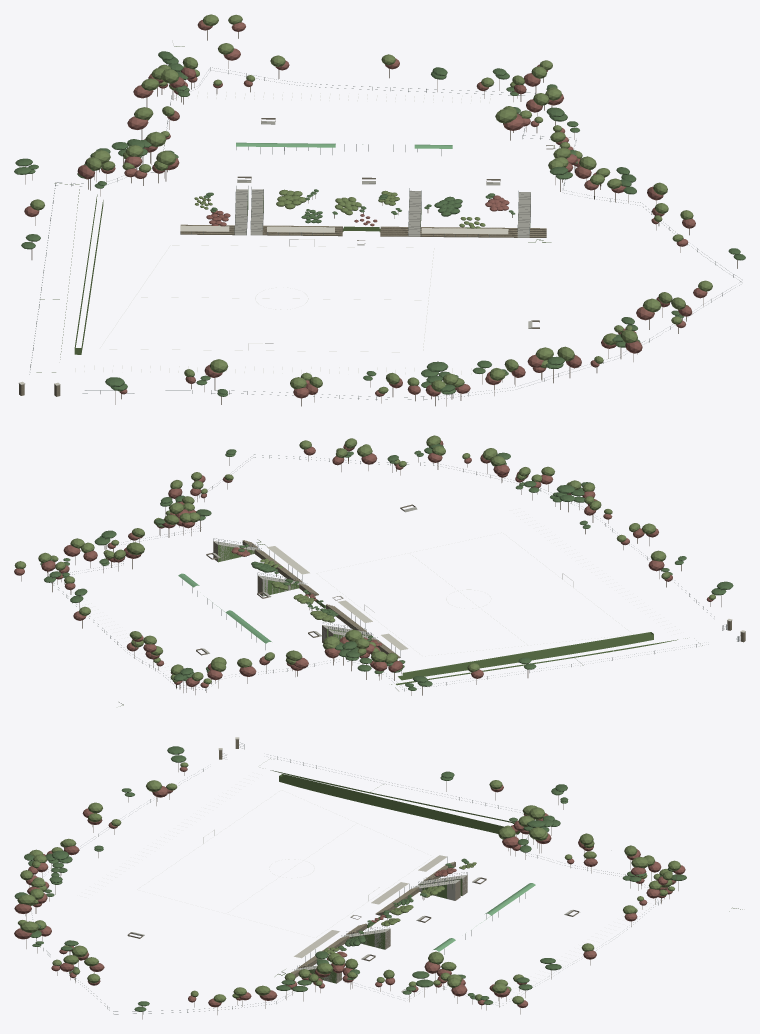
The picture shows the model from 3 angles, top to bottom: view 1: azimuth 30°, elevation 25°; view 2: azimuth 150°, elevation 25°; view 3: azimuth 270°, elevation 25°; orthographic projection. The views are drawn at different scales.
Visible parts, largest first — view 1: planting_mixed-trees, planting_low-shrubs, facility_stand-tiered, facility_open-stand-shelters, facility_terrain-contour-join, facility_boundary-fence, facility_open-covered-walk; view 2: planting_mixed-trees, facility_terrain-contour-join, planting_low-shrubs, facility_stand-tiered, facility_open-stand-shelters, facility_open-covered-walk; view 3: planting_mixed-trees, facility_terrain-contour-join, planting_low-shrubs, facility_stand-tiered, facility_open-stand-shelters, facility_open-covered-walk.
Boxes of the visible parts, <box> form: planting_mixed-trees: <box>14,14,745,406</box>; planting_low-shrubs: <box>194,189,509,228</box>; facility_stand-tiered: <box>180,224,546,237</box>; facility_open-stand-shelters: <box>180,225,508,237</box>; facility_terrain-contour-join: <box>36,46,553,372</box>; facility_boundary-fence: <box>29,67,741,400</box>; facility_open-covered-walk: <box>236,142,452,155</box>; planting_mixed-trees: <box>14,435,733,695</box>; facility_terrain-contour-join: <box>119,504,702,706</box>; planting_low-shrubs: <box>231,547,382,646</box>; facility_stand-tiered: <box>242,540,400,658</box>; facility_open-stand-shelters: <box>267,546,408,657</box>; facility_open-covered-walk: <box>178,573,271,649</box>; planting_mixed-trees: <box>14,746,686,1019</box>; facility_terrain-contour-join: <box>127,758,742,991</box>; planting_low-shrubs: <box>324,862,476,960</box>; facility_stand-tiered: <box>291,861,455,977</box>; facility_open-stand-shelters: <box>294,855,447,962</box>; facility_open-covered-walk: <box>433,883,535,954</box>.
Size of the model in its own units: 213 by 24.66 by 227.
12 materials, 3 textured.
